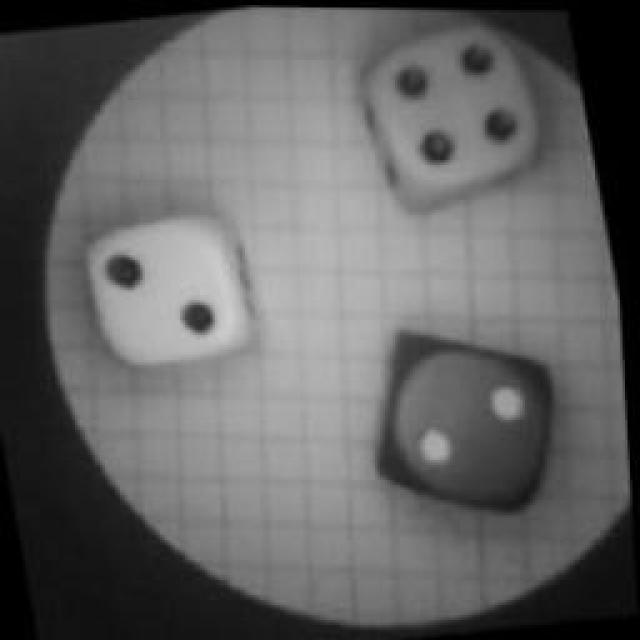dice_2: (348, 320, 574, 538), (78, 200, 258, 380)
dice_4: (349, 5, 566, 217)
